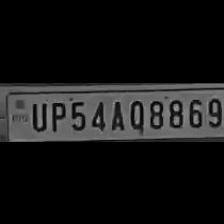4: (88, 96, 106, 130)
5: (66, 97, 86, 131)
6: (185, 94, 203, 128)
8: (146, 94, 164, 130), (165, 95, 183, 129)
9: (204, 94, 222, 128)
A: (105, 96, 124, 130)
P: (47, 97, 66, 132)
Q: (125, 96, 144, 130)
U: (27, 98, 47, 132)
